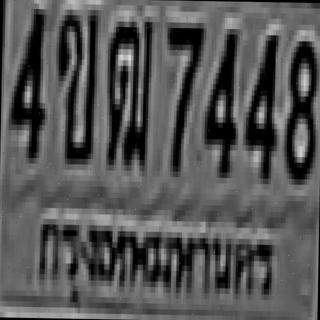A02: (54, 4, 96, 159)
A18: (103, 16, 152, 166)
N04: (8, 3, 44, 158), (242, 29, 276, 178), (201, 23, 234, 172)
N07: (162, 17, 202, 172)
N08: (282, 35, 316, 179)
P04: (27, 201, 283, 311)
